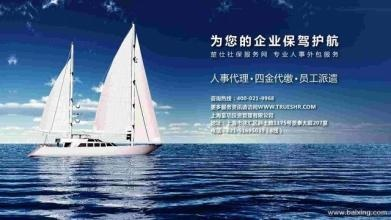fanchuan: (25, 21, 178, 159)
